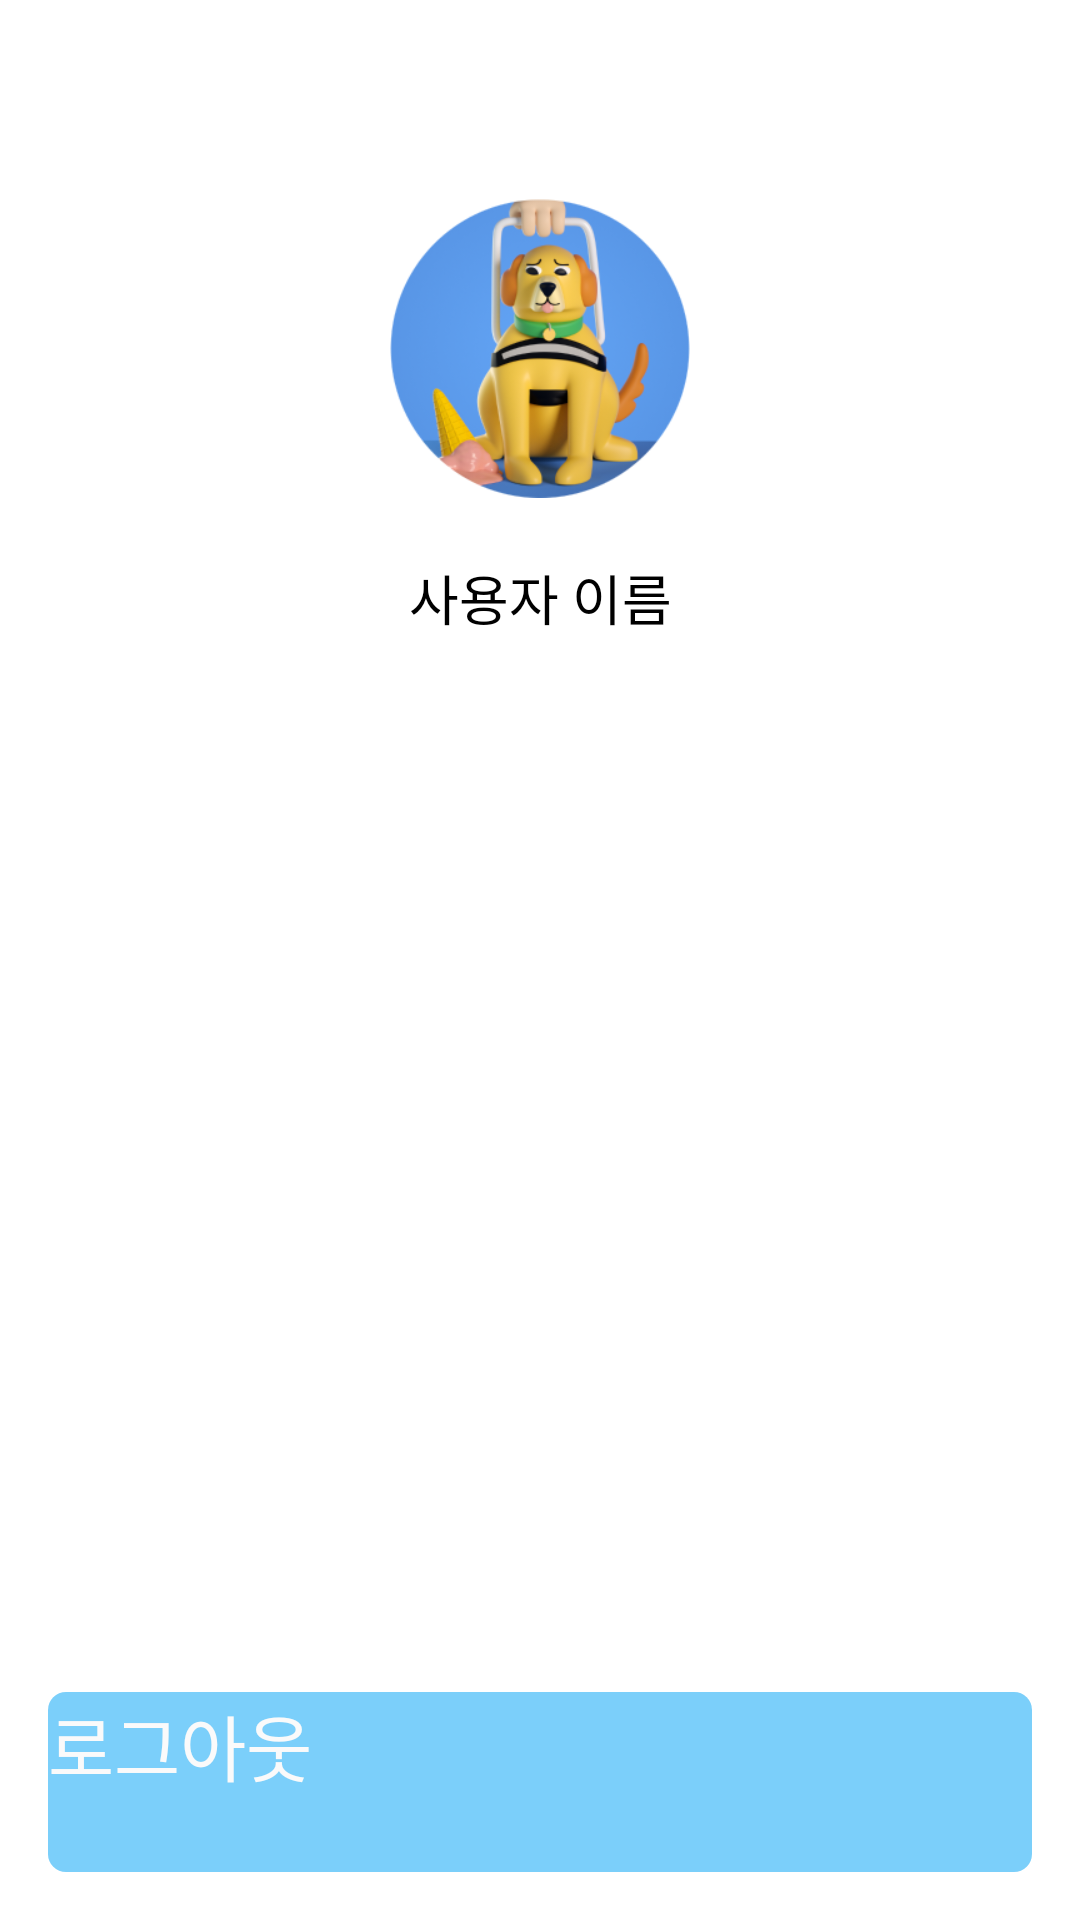

Named icons in this screenshot (1080px x 1920px) and their bounding boxes, [x1,y1,x2,y2]:
프로필 사진: [390,199,690,498]
